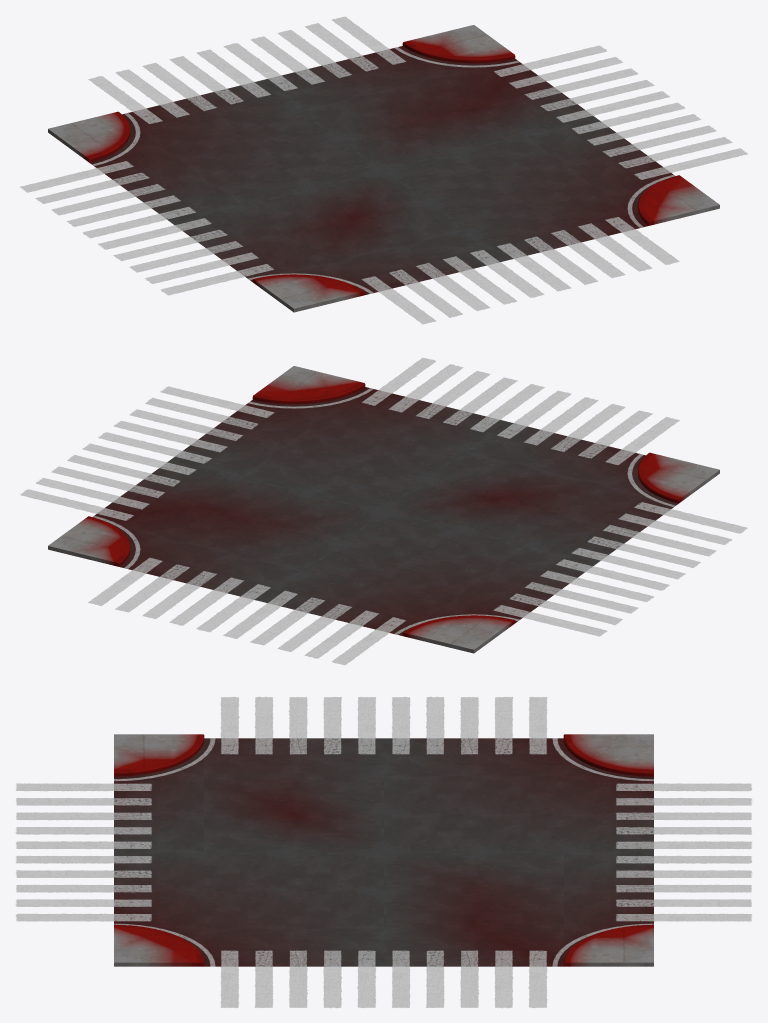
File: street_4wayintersection.glb
3 renders of one model, top to bottom at view 1: azimuth 30°, elevation 25°; view 2: azimuth 150°, elevation 25°; view 3: azimuth 270°, elevation 25°, orthographic. The views are drawn at different scales.
Parts seen in each view (by area): view 1: Street_4WayIntersection; view 2: Street_4WayIntersection; view 3: Street_4WayIntersection.
Part boxes in pixels (x1,y1,x2,y2): Street_4WayIntersection: (20, 16, 747, 324); Street_4WayIntersection: (20, 358, 747, 664); Street_4WayIntersection: (16, 697, 751, 1007).
Bounding box in the file's own units: 24.67 × 0.15 × 24.67.
3 materials, 3 textured.
